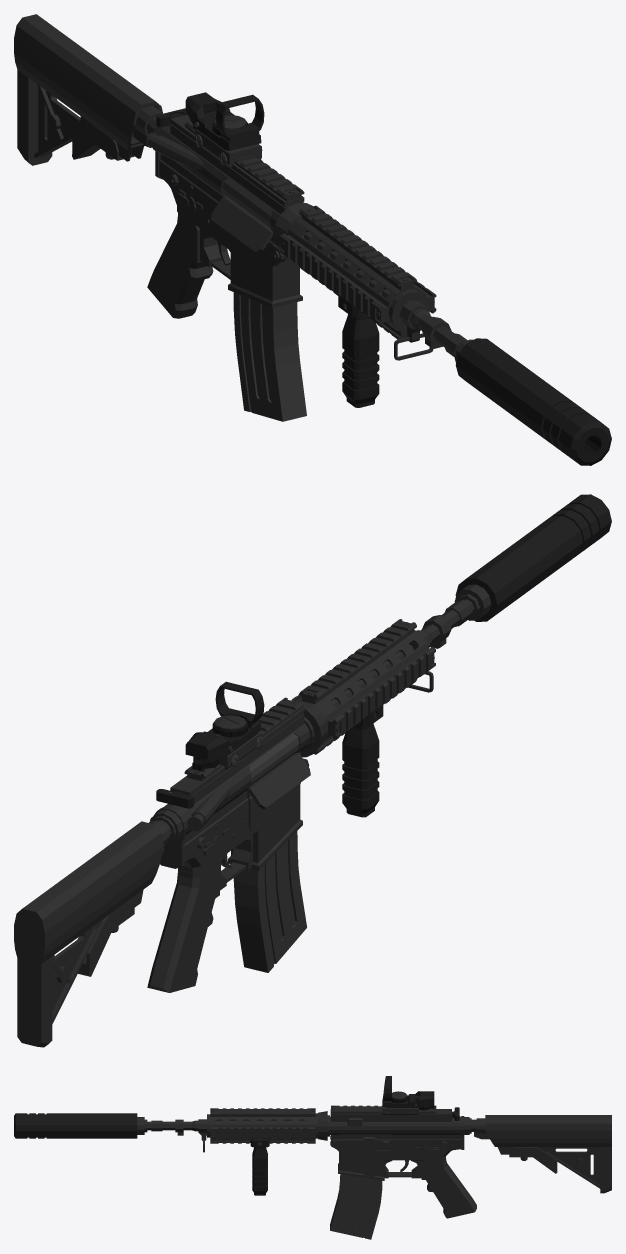
3 renders of one model, top to bottom at view 1: azimuth 30°, elevation 25°; view 2: azimuth 150°, elevation 25°; view 3: azimuth 270°, elevation 25°, orthographic. The views are drawn at different scales.
Visible parts, largest first — view 1: assault_rifle_02, silencer, scope_02; view 2: assault_rifle_02, silencer, scope_02; view 3: assault_rifle_02, silencer, scope_02.
Part boxes in pixels (x1=…): assault_rifle_02: x1=14, y1=14, x2=467, y2=421; silencer: x1=454, y1=338, x2=611, y2=465; scope_02: x1=185, y1=92, x2=264, y2=166; assault_rifle_02: x1=14, y1=594, x2=479, y2=1047; silencer: x1=454, y1=494, x2=611, y2=621; scope_02: x1=185, y1=681, x2=264, y2=771; assault_rifle_02: x1=144, y1=1105, x2=611, y2=1239; silencer: x1=14, y1=1113, x2=144, y2=1138; scope_02: x1=382, y1=1076, x2=434, y2=1114.
Bounding box in the file's own units: 0.059 × 0.2921 × 1.01.
Materials: 1 (1 with a texture image).
